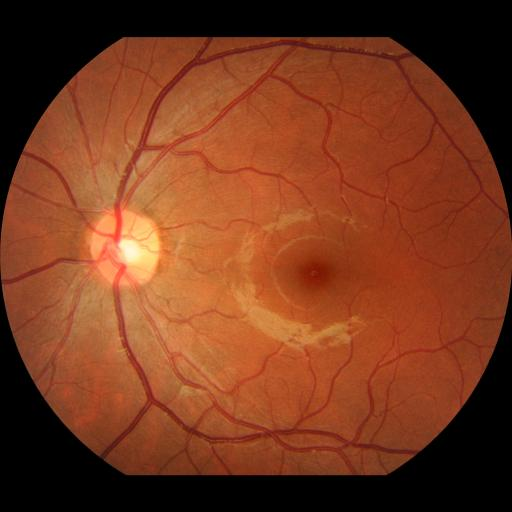Optic Cup: (113, 237, 141, 266)
Optic Disc: (92, 211, 159, 288)
